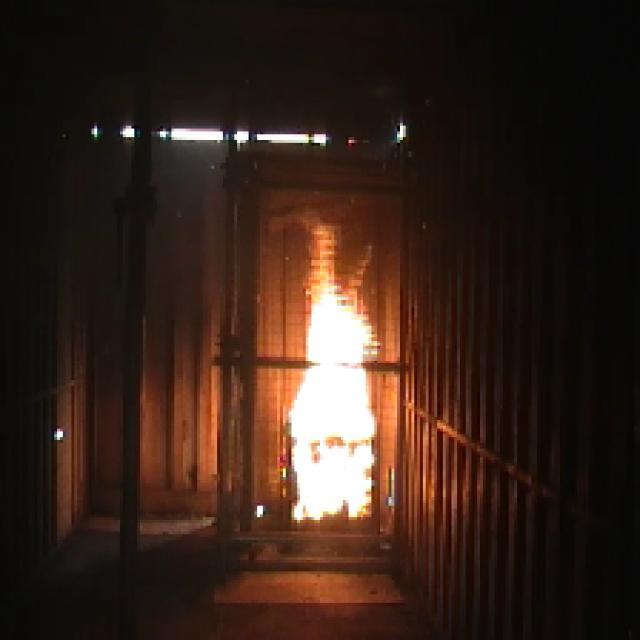Fire: (296, 252, 384, 516)
